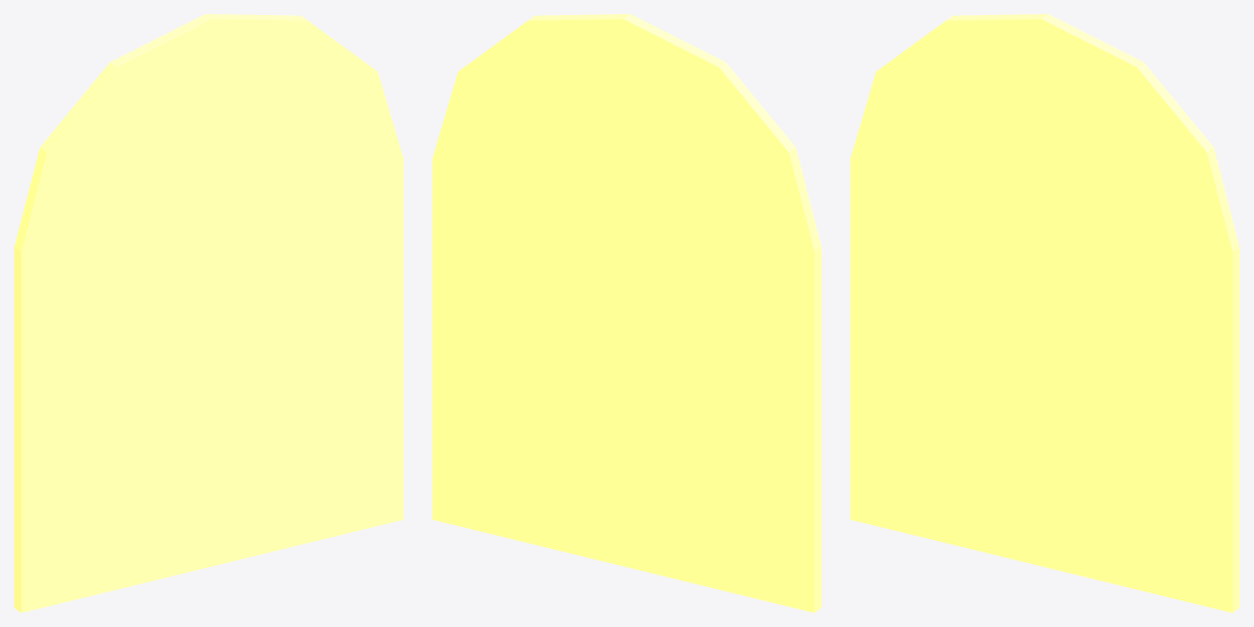
File: pane_passage.glb
The picture shows the model from 3 angles, left to right: view 1: azimuth 30°, elevation 25°; view 2: azimuth 150°, elevation 25°; view 3: azimuth 330°, elevation 25°; orthographic projection.
Parts seen in each view (by area): view 1: pane_passage; view 2: pane_passage; view 3: pane_passage.
Part boxes in pixels (x1,y1,x2,y2): pane_passage: (14,14,403,612); pane_passage: (432,14,821,612); pane_passage: (850,14,1239,612).
Bounding box in the file's own units: 1.9 × 2.6 × 0.06.
